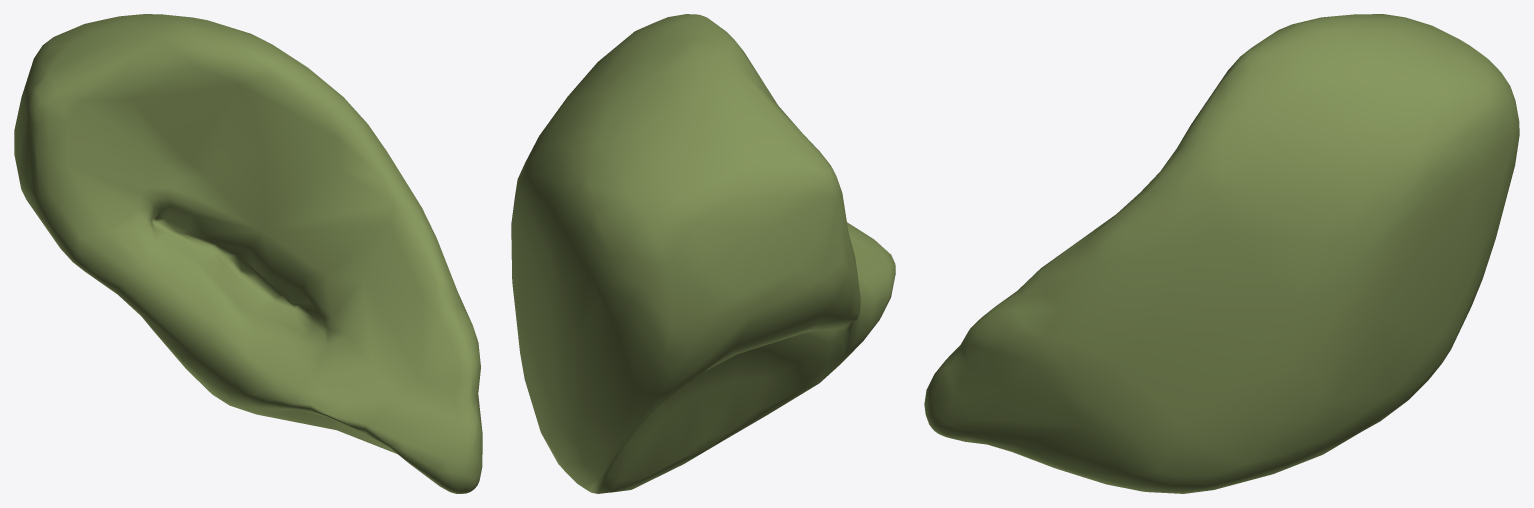
Rendered from spleen.glb.
3 views of the same model, side by side, from view 1: azimuth 30°, elevation 25°; view 2: azimuth 150°, elevation 25°; view 3: azimuth 270°, elevation 25° (orthographic). The views are drawn at different scales.
Parts seen in each view (by area): view 1: spleen; view 2: spleen; view 3: spleen.
Boxes of the visible parts, x1,y1,x2,y2 form: spleen: (14, 14, 482, 493); spleen: (511, 14, 895, 493); spleen: (924, 14, 1519, 493).
Bounding box in the file's own units: 0.0582 × 0.0702 × 0.0951.
